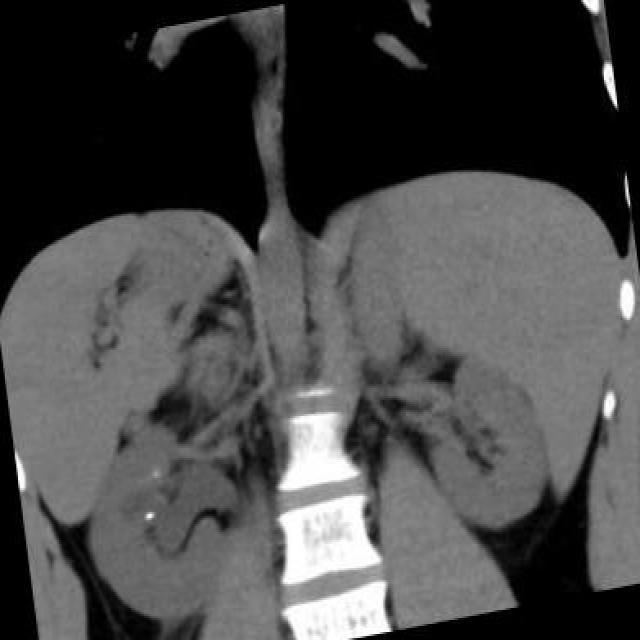Tas_Var: (138, 504, 160, 524), (146, 466, 163, 484)
